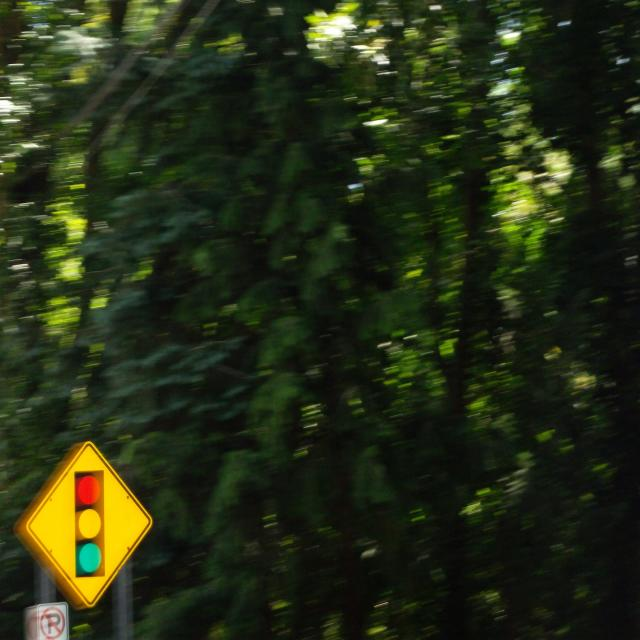regulatory: (35, 601, 71, 640)
warning: (26, 427, 155, 604)
